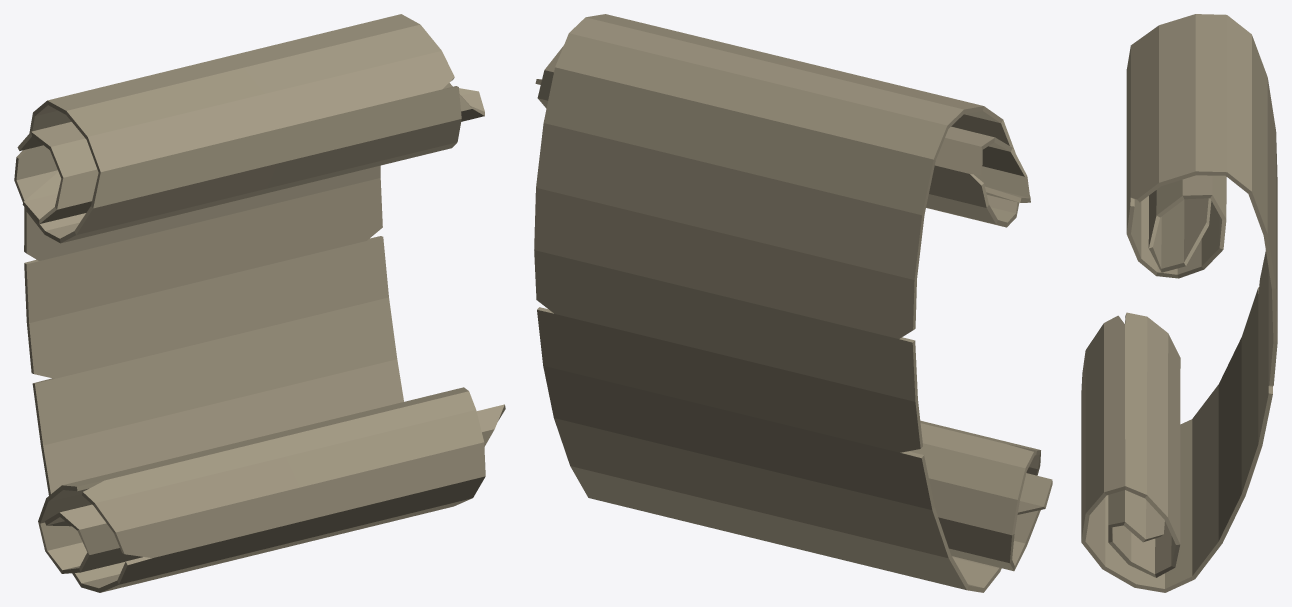
Rendered from Parchment.glb.
The picture shows the model from 3 angles, left to right: view 1: azimuth 30°, elevation 25°; view 2: azimuth 150°, elevation 25°; view 3: azimuth 270°, elevation 25°; orthographic projection. The views are drawn at different scales.
Parts seen in each view (by area): view 1: Parchment; view 2: Parchment; view 3: Parchment.
Boxes of the visible parts, x1,y1,x2,y2 form: Parchment: (14, 14, 505, 592); Parchment: (534, 14, 1052, 592); Parchment: (1081, 14, 1277, 592).
Bounding box in the file's own units: 0.2766 × 0.2699 × 0.1138.
